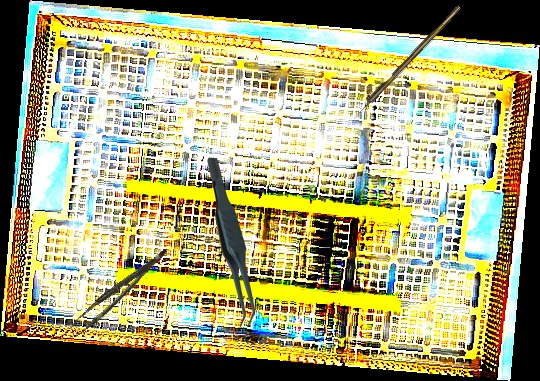Hook Surgical: (350, 5, 463, 120)
Tissue Forceps: (64, 248, 177, 338), (206, 158, 256, 327)
